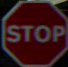Stop: (2, 7, 64, 52)
